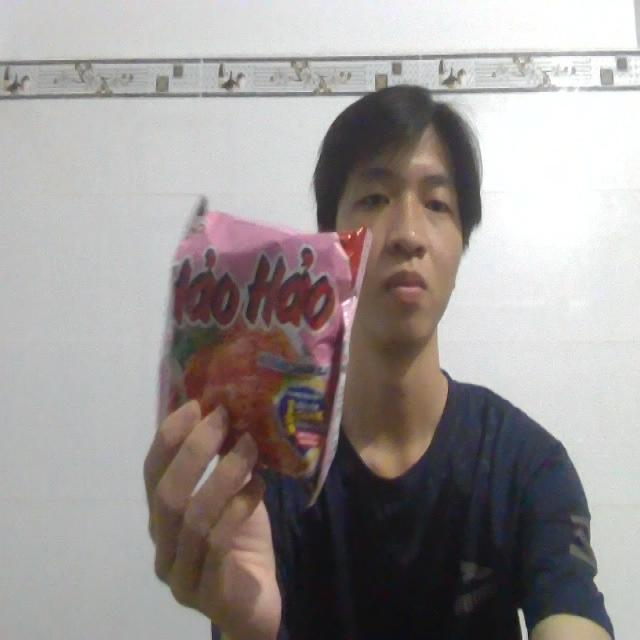mi hao hao: (143, 168, 374, 509)
